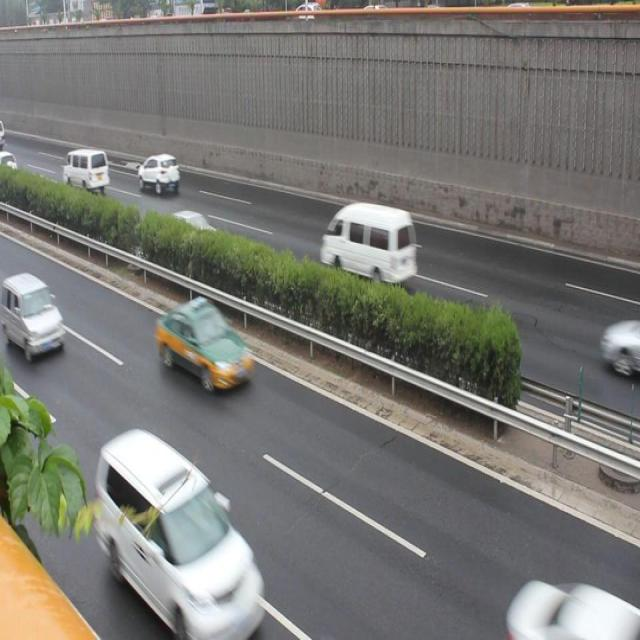car: (96, 428, 268, 640), (501, 566, 639, 640), (161, 297, 254, 398), (1, 272, 67, 359), (167, 200, 218, 249), (134, 154, 180, 204)
truck: (318, 196, 418, 295)
